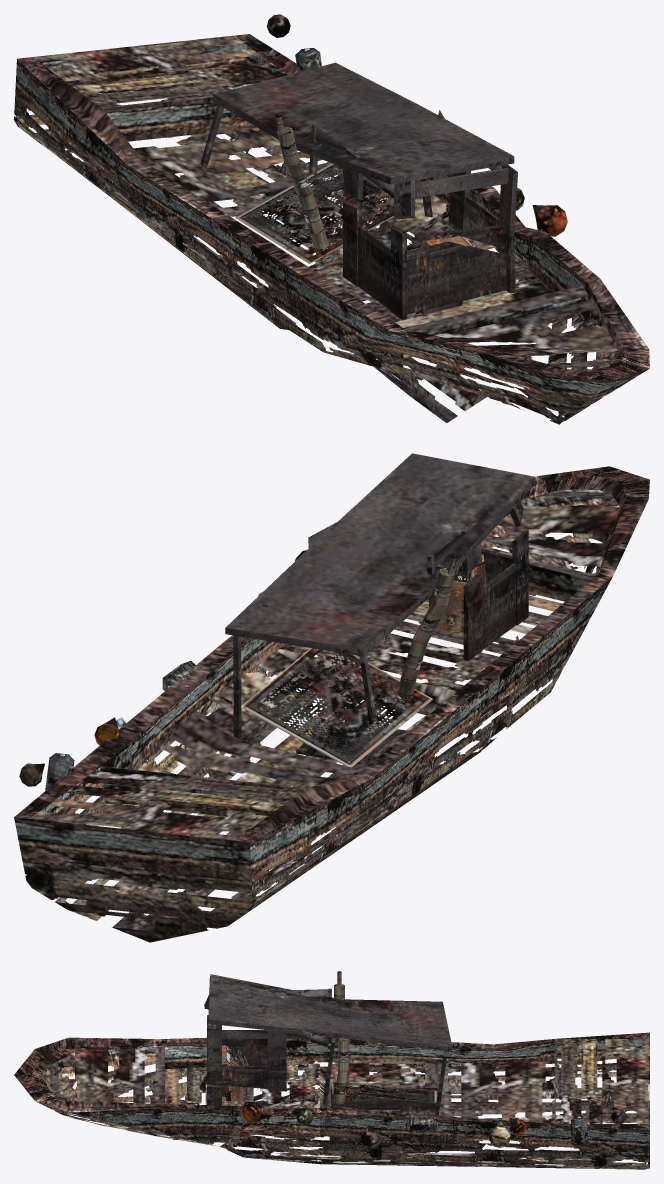
Rendered from Eboat01x.glb.
The picture shows the model from 3 angles, top to bottom: view 1: azimuth 30°, elevation 25°; view 2: azimuth 150°, elevation 25°; view 3: azimuth 270°, elevation 25°; orthographic projection. The views are drawn at different scales.
Visible parts, largest first — view 1: _Eboat01x; view 2: _Eboat01x; view 3: _Eboat01x.
Part boxes in pixels (box(x1,y1,x2,y2)): _Eboat01x: box(14, 14, 649, 424); _Eboat01x: box(14, 453, 649, 942); _Eboat01x: box(14, 971, 649, 1169).
Bounding box in the file's own units: 6.74 × 5.79 × 21.06.
1 material, 1 textured.
